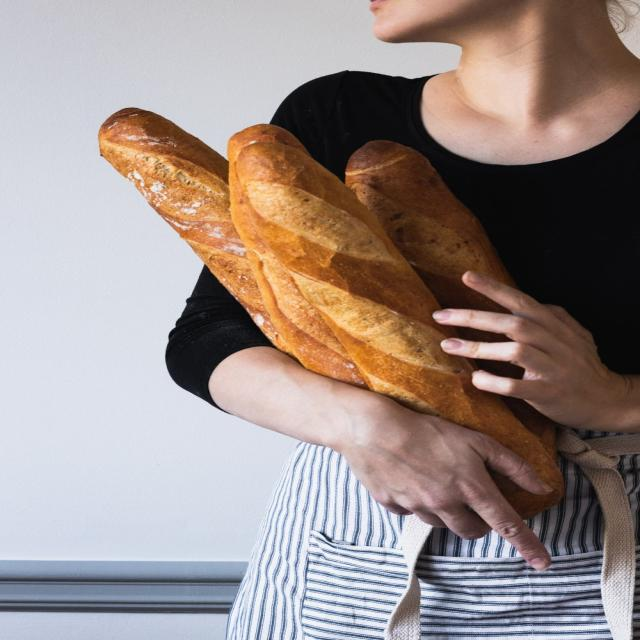Baguette: (228, 125, 559, 485), (99, 108, 278, 339), (346, 140, 513, 310)
